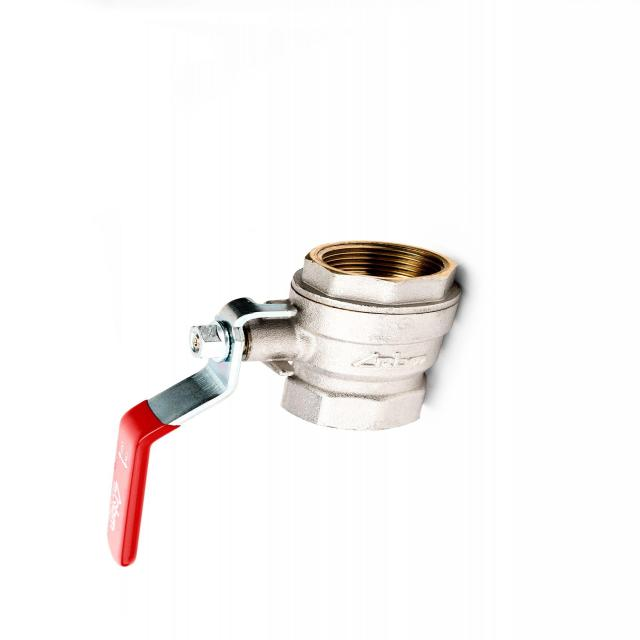opened_valve: (103, 236, 467, 567)
